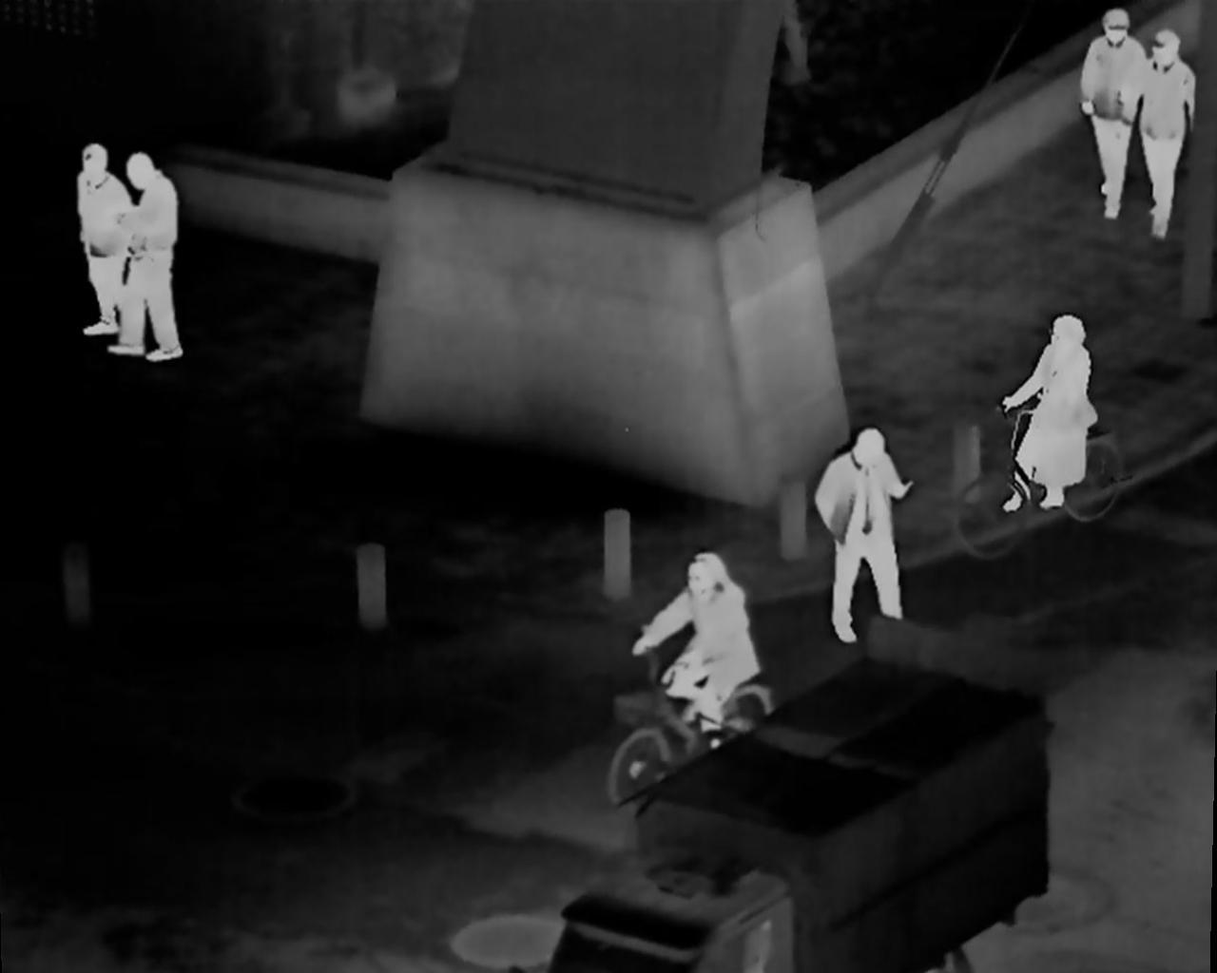person: (630, 551, 755, 763), (817, 429, 909, 662), (1004, 313, 1099, 526), (1124, 29, 1207, 234), (1071, 13, 1144, 243), (64, 158, 144, 333), (123, 155, 171, 355)
